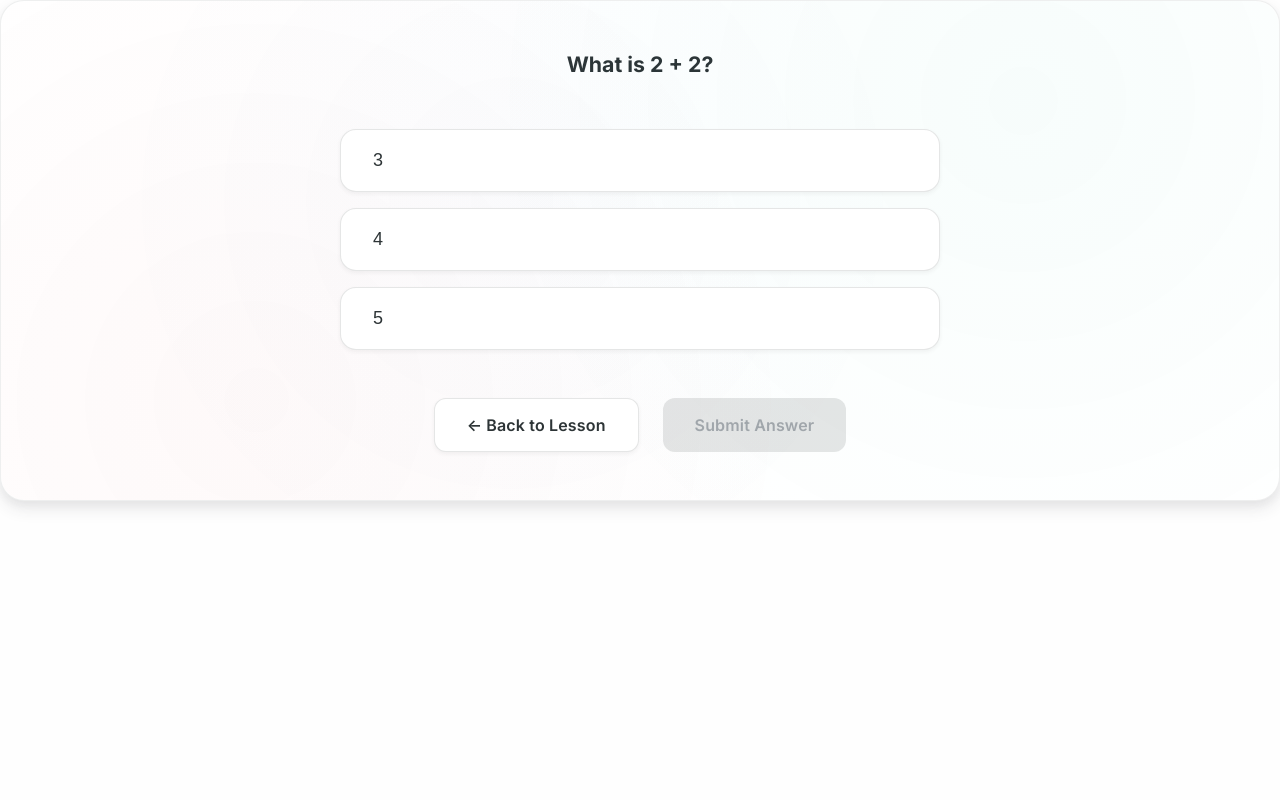
Test: Quiz › should show result when incorrect answer is submitted
Click the button "3" at (378,160), box [340, 129, 940, 192]
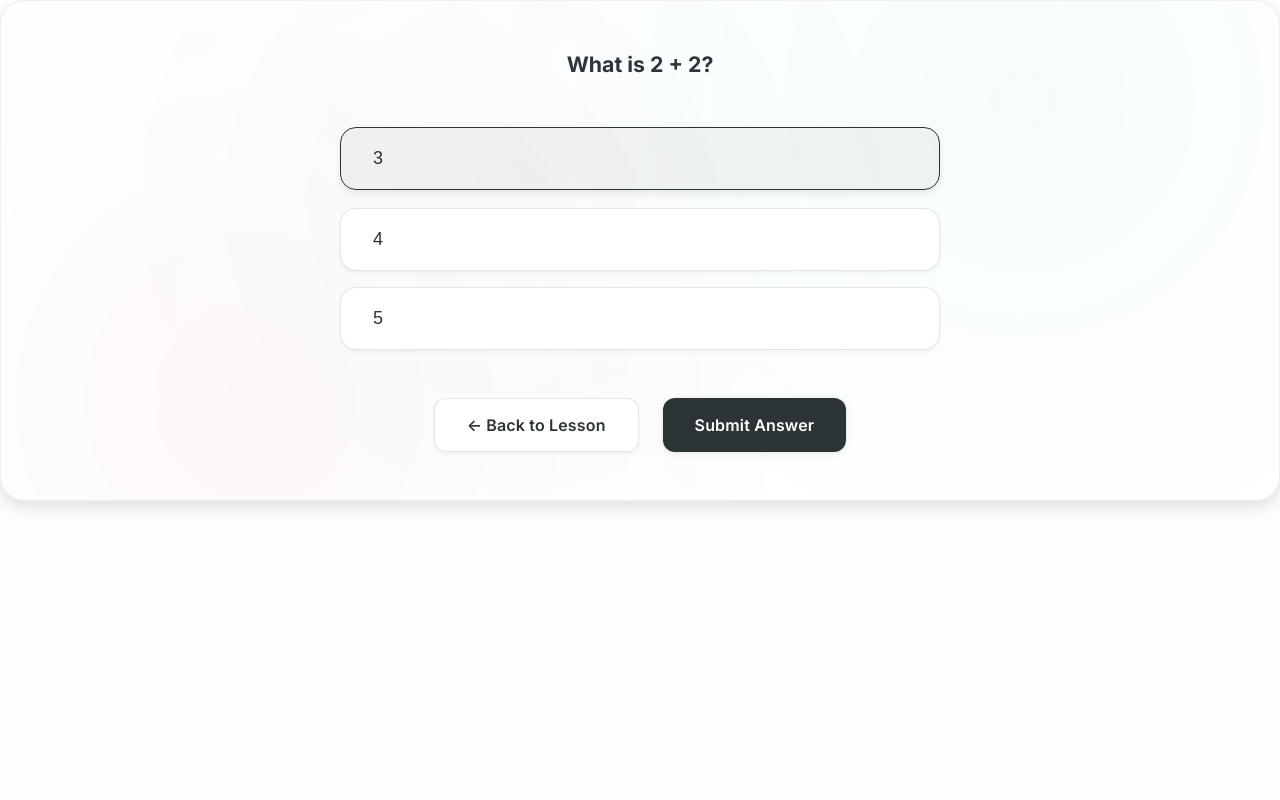
// Submit answer
Click the button "Submit Answer" at (754,425), box [663, 398, 846, 452]
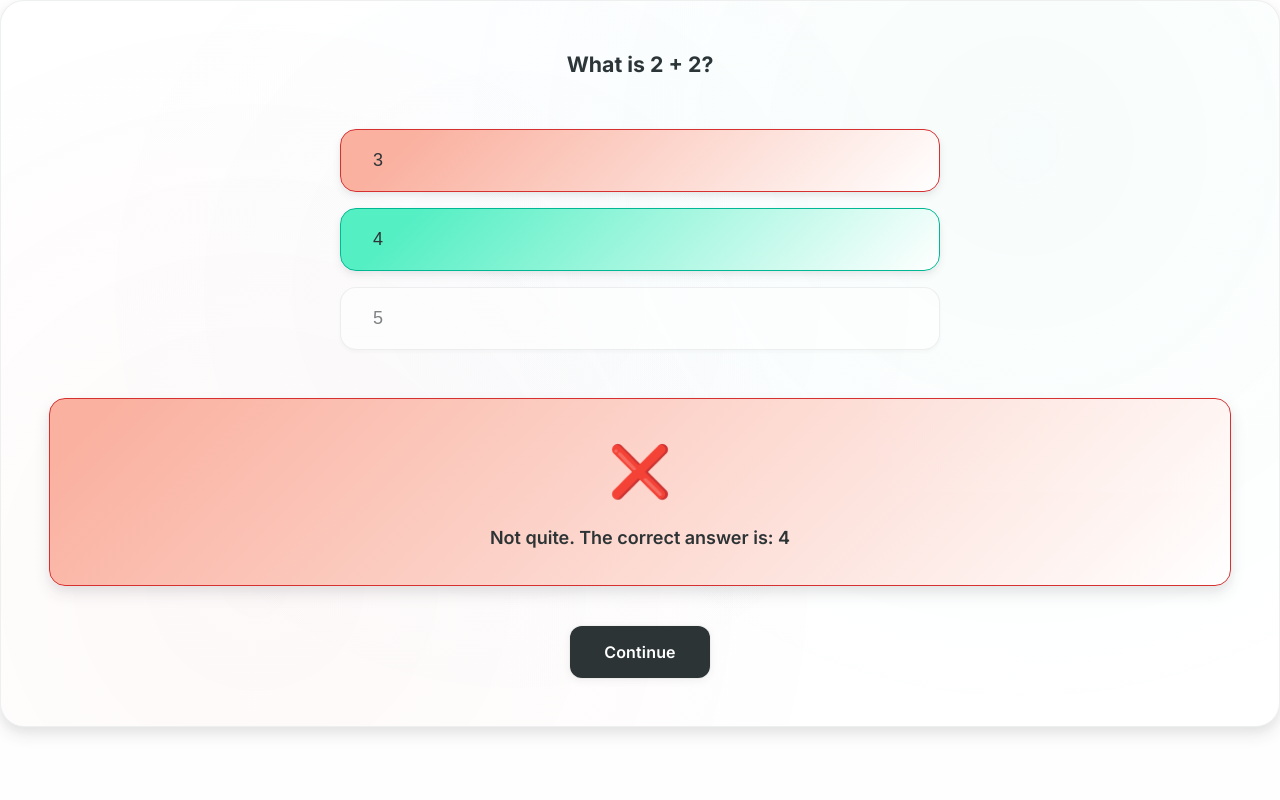
Check: the text "Not quite. The correct answer is: 4" is shown, box [490, 527, 790, 548]
Check: the text "❌" is shown, box [608, 440, 672, 501]
